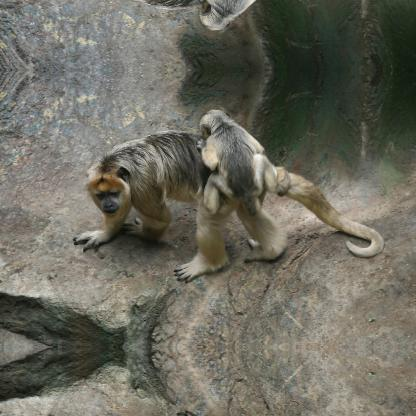Monkey: (74, 129, 384, 278), (201, 104, 287, 216), (201, 0, 288, 35)
